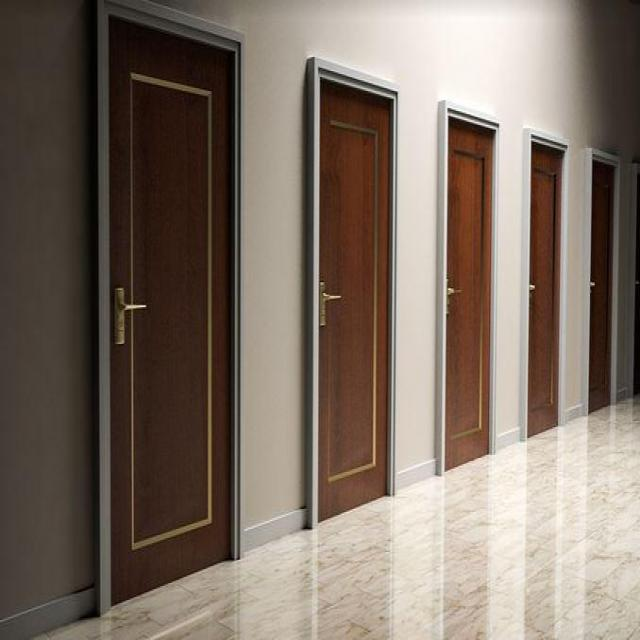close: (93, 0, 252, 622), (296, 39, 402, 549), (434, 83, 501, 484), (516, 105, 566, 444), (576, 126, 621, 421)
